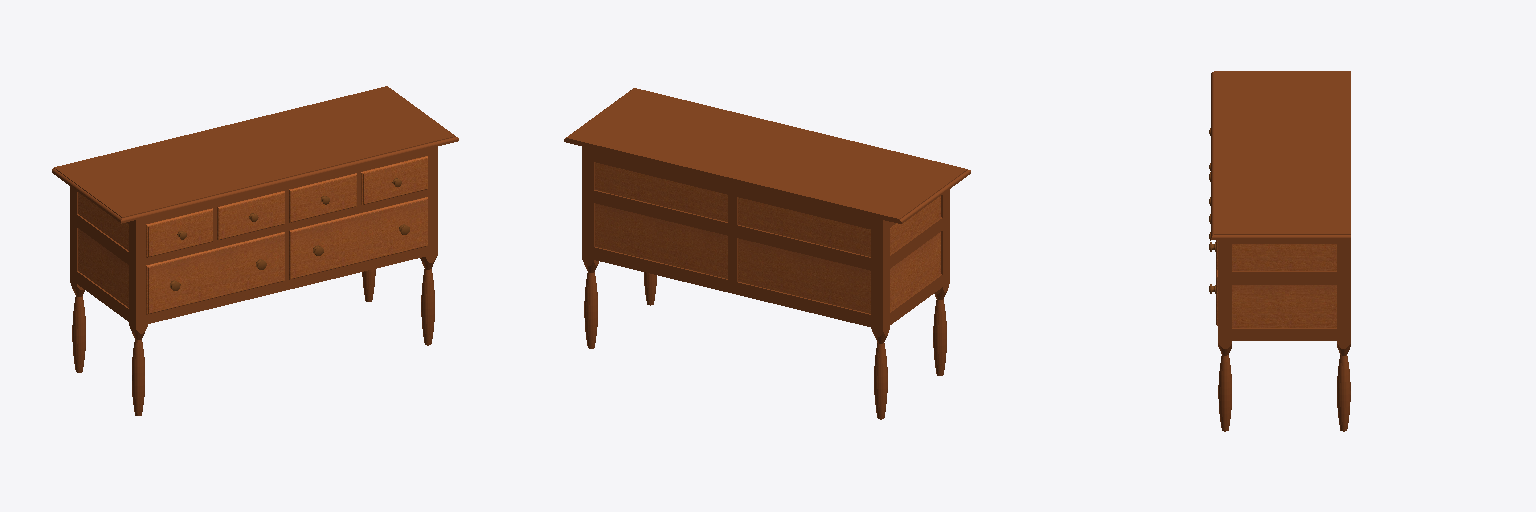
3 renders of one model, left to right at view 1: azimuth 30°, elevation 25°; view 2: azimuth 150°, elevation 25°; view 3: azimuth 270°, elevation 25°, orthographic.
Parts seen in each view (by area): view 1: Mesh109_top1_Model, Mesh9_large_drawer_front1_Group1_Model, Mesh19_large_drawer_front2_Group2_Model, Mesh53_leg1_Model, Mesh56_front_back_runners_2_1_Model, Mesh43_small_drawer_front3_Group5_Model, Mesh27_small_drawer_front1_Group3_Model, Mesh35_small_drawer_front2_Group4_Model, Mesh51_small_drawer_front4_Group6_Model, Mesh100_lower_side_panel2_Model, Mesh54_leg2_Model, Mesh55_front_back_runners_6_1_Model (+6 smaller); view 2: Mesh109_top1_Model, Mesh103_lower_back_panel1_Model, Mesh104_lower_back_panel2_Model, Mesh72_front_back_runners1_Model, Mesh101_upper_back_panel1_Model, Mesh102_upper_back_panel2_Model, Mesh69_front_back_runners_5_1_Model, Mesh58_leg_1_1_Model, Mesh59_leg_1_2_Model, Mesh100_lower_side_panel2_Model, Mesh71_front_back_runners_1_2_Model, Mesh68_front_back_runners_1_1_Model (+5 smaller); view 3: Mesh109_top1_Model, Mesh98_lower_side_panel1_Model, Mesh97_upper_side_panel1_Model, Mesh59_leg_1_2_Model, Mesh54_leg2_Model, Mesh62_side_rails1_Model, Mesh61_side_rails_1_2_Model.
Part boxes in pixels (left/top/right/bottom): Mesh109_top1_Model: left=52, top=86, right=458, bottom=223; Mesh9_large_drawer_front1_Group1_Model: left=146, top=232, right=284, bottom=314; Mesh19_large_drawer_front2_Group2_Model: left=289, top=197, right=427, bottom=279; Mesh53_leg1_Model: left=129, top=217, right=147, bottom=415; Mesh56_front_back_runners_2_1_Model: left=148, top=247, right=425, bottom=323; Mesh43_small_drawer_front3_Group5_Model: left=289, top=173, right=356, bottom=222; Mesh27_small_drawer_front1_Group3_Model: left=217, top=191, right=284, bottom=239; Mesh35_small_drawer_front2_Group4_Model: left=146, top=208, right=212, bottom=257; Mesh51_small_drawer_front4_Group6_Model: left=361, top=156, right=427, bottom=204; Mesh100_lower_side_panel2_Model: left=78, top=228, right=128, bottom=307; Mesh54_leg2_Model: left=420, top=147, right=437, bottom=345; Mesh55_front_back_runners_6_1_Model: left=148, top=149, right=425, bottom=223; Mesh109_top1_Model: left=564, top=88, right=970, bottom=223; Mesh103_lower_back_panel1_Model: left=738, top=238, right=870, bottom=313; Mesh104_lower_back_panel2_Model: left=595, top=203, right=727, bottom=278; Mesh72_front_back_runners1_Model: left=594, top=247, right=870, bottom=326; Mesh101_upper_back_panel1_Model: left=738, top=197, right=870, bottom=256; Mesh102_upper_back_panel2_Model: left=595, top=162, right=727, bottom=221; Mesh69_front_back_runners_5_1_Model: left=594, top=150, right=870, bottom=228; Mesh58_leg_1_1_Model: left=871, top=217, right=889, bottom=419; Mesh59_leg_1_2_Model: left=582, top=147, right=598, bottom=348; Mesh100_lower_side_panel2_Model: left=890, top=232, right=940, bottom=310; Mesh71_front_back_runners_1_2_Model: left=594, top=190, right=727, bottom=235; Mesh68_front_back_runners_1_1_Model: left=737, top=225, right=870, bottom=270; Mesh109_top1_Model: left=1211, top=71, right=1350, bottom=239; Mesh98_lower_side_panel1_Model: left=1232, top=285, right=1336, bottom=327; Mesh97_upper_side_panel1_Model: left=1232, top=244, right=1336, bottom=270; Mesh59_leg_1_2_Model: left=1337, top=240, right=1350, bottom=431; Mesh54_leg2_Model: left=1218, top=240, right=1231, bottom=431; Mesh62_side_rails1_Model: left=1232, top=271, right=1336, bottom=284; Mesh61_side_rails_1_2_Model: left=1232, top=328, right=1336, bottom=340.
Bounding box in the file's own units: 23.33 × 13.65 × 8.46.
17 materials, 1 textured.